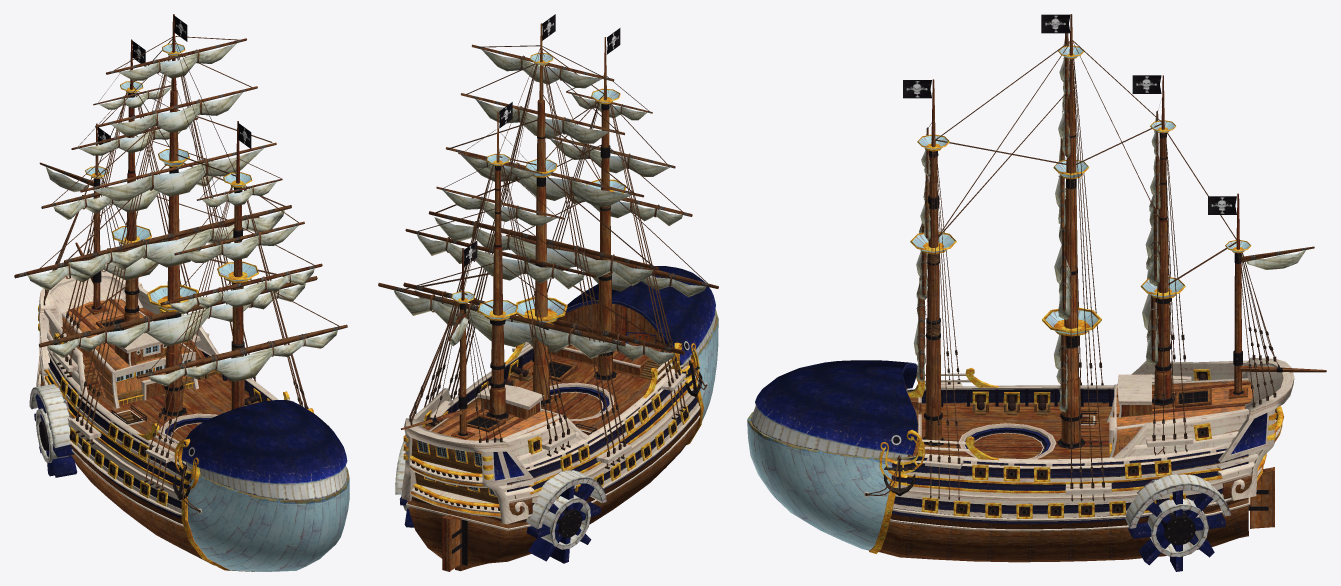
The model's file is Moby Dick.obj.
3 renders of one model, left to right at view 1: azimuth 30°, elevation 25°; view 2: azimuth 150°, elevation 25°; view 3: azimuth 270°, elevation 25°, orthographic. The views are drawn at different scales.
Visible parts, largest first — view 1: Moby_Dick; view 2: Moby_Dick; view 3: Moby_Dick.
Part boxes in pixels (x1,y1,x2,y2): Moby_Dick: [14, 14, 349, 571]; Moby_Dick: [378, 14, 718, 571]; Moby_Dick: [747, 14, 1326, 571].
Size of the model in its own units: 65.24 by 111 by 109.
